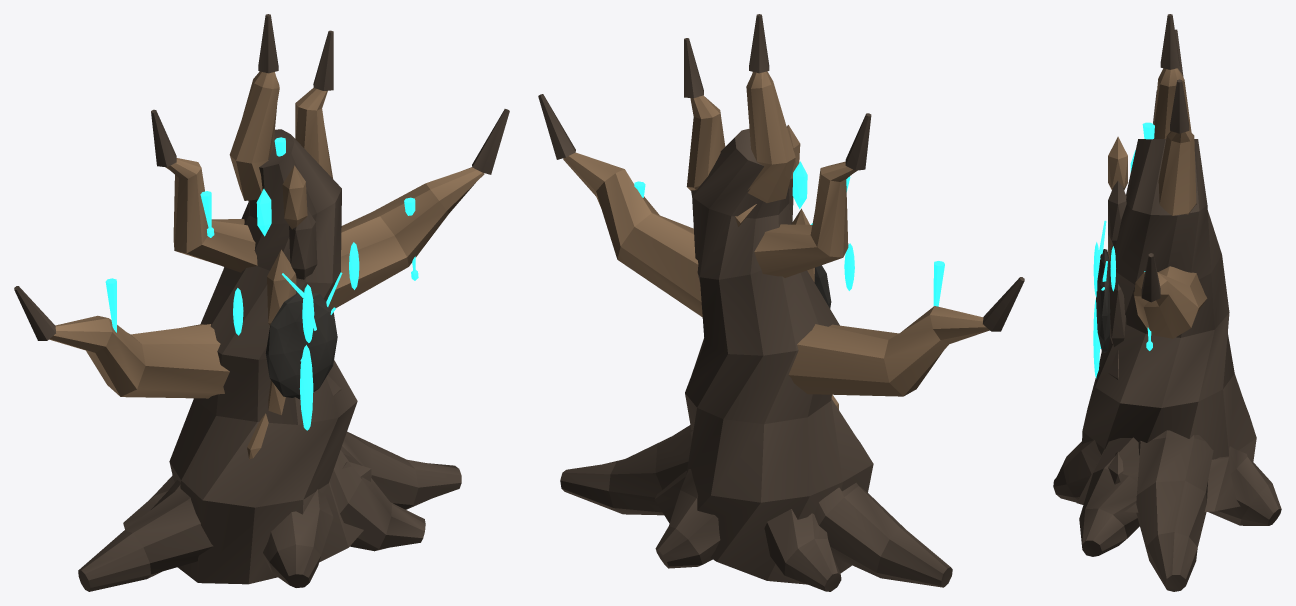
The model's file is ashroot-tree.glb.
The picture shows the model from 3 angles, left to right: view 1: azimuth 30°, elevation 25°; view 2: azimuth 150°, elevation 25°; view 3: azimuth 270°, elevation 25°; orthographic projection. The views are drawn at different scales.
Parts seen in each view (by area): view 1: Ashroot | twisted trunk, Ashroot | twisted branch 1, Ashroot | twisted branch 2, Ashroot | exposed root 1, Ashroot | twisted branch 3, Ashroot | hollow heart, Ashroot | exposed root 4, Ashroot | exposed root 2, Ashroot | exposed root 5, Ashroot | twisted branch 5, Ashroot | twisted branch 4, Ashroot | bark scar 6 (+8 smaller); view 2: Ashroot | twisted trunk, Ashroot | twisted branch 1, Ashroot | twisted branch 2, Ashroot | exposed root 1, Ashroot | exposed root 2, Ashroot | twisted branch 3, Ashroot | twisted branch 5, Ashroot | exposed root 3, Ashroot | exposed root 6, Ashroot | twisted branch 4, Ashroot | branch tip 2, Ashroot | branch tip 1 (+3 smaller); view 3: Ashroot | twisted trunk, Ashroot | exposed root 2, Ashroot | exposed root 4, Ashroot | twisted branch 2, Ashroot | exposed root 6, Ashroot | twisted branch 4, Ashroot | exposed root 5, Ashroot | twisted branch 5, Ashroot | hollow heart, Ashroot | bark scar 4, Ashroot | bark scar 6, Ashroot | bark scar 7 (+5 smaller).
Boxes of the visible parts, bbox=[...] form: Ashroot | twisted trunk: bbox=[169, 129, 363, 584]; Ashroot | twisted branch 1: bbox=[49, 315, 229, 398]; Ashroot | twisted branch 2: bbox=[329, 167, 484, 309]; Ashroot | exposed root 1: bbox=[78, 480, 213, 591]; Ashroot | twisted branch 3: bbox=[165, 158, 257, 272]; Ashroot | hollow heart: bbox=[265, 291, 337, 399]; Ashroot | exposed root 4: bbox=[329, 450, 425, 551]; Ashroot | exposed root 2: bbox=[340, 431, 461, 509]; Ashroot | exposed root 5: bbox=[263, 489, 333, 587]; Ashroot | twisted branch 5: bbox=[229, 71, 279, 200]; Ashroot | twisted branch 4: bbox=[295, 88, 332, 178]; Ashroot | bark scar 6: bbox=[289, 209, 317, 279]; Ashroot | twisted trunk: bbox=[654, 128, 873, 584]; Ashroot | twisted branch 1: bbox=[788, 306, 989, 396]; Ashroot | twisted branch 2: bbox=[563, 152, 702, 317]; Ashroot | exposed root 1: bbox=[814, 482, 952, 587]; Ashroot | exposed root 2: bbox=[560, 425, 693, 515]; Ashroot | twisted branch 3: bbox=[754, 161, 856, 277]; Ashroot | twisted branch 5: bbox=[746, 71, 795, 202]; Ashroot | exposed root 3: bbox=[764, 509, 841, 591]; Ashroot | exposed root 6: bbox=[655, 469, 720, 568]; Ashroot | twisted branch 4: bbox=[686, 95, 756, 226]; Ashroot | branch tip 2: bbox=[538, 94, 575, 159]; Ashroot | branch tip 1: bbox=[983, 277, 1024, 331]; Ashroot | twisted trunk: bbox=[1077, 139, 1256, 512]; Ashroot | exposed root 2: bbox=[1136, 430, 1213, 591]; Ashroot | exposed root 4: bbox=[1079, 437, 1139, 556]; Ashroot | twisted branch 2: bbox=[1133, 266, 1207, 338]; Ashroot | exposed root 6: bbox=[1208, 446, 1281, 525]; Ashroot | twisted branch 4: bbox=[1158, 130, 1196, 215]; Ashroot | exposed root 5: bbox=[1053, 440, 1101, 502]; Ashroot | twisted branch 5: bbox=[1154, 68, 1191, 138]; Ashroot | hollow heart: bbox=[1096, 249, 1110, 352]; Ashroot | bark scar 4: bbox=[1109, 277, 1126, 346]; Ashroot | bark scar 6: bbox=[1108, 181, 1126, 247]; Ashroot | bark scar 7: bbox=[1108, 136, 1127, 190].
Size of the model in its own units: 3.38 by 3.54 by 1.45.
